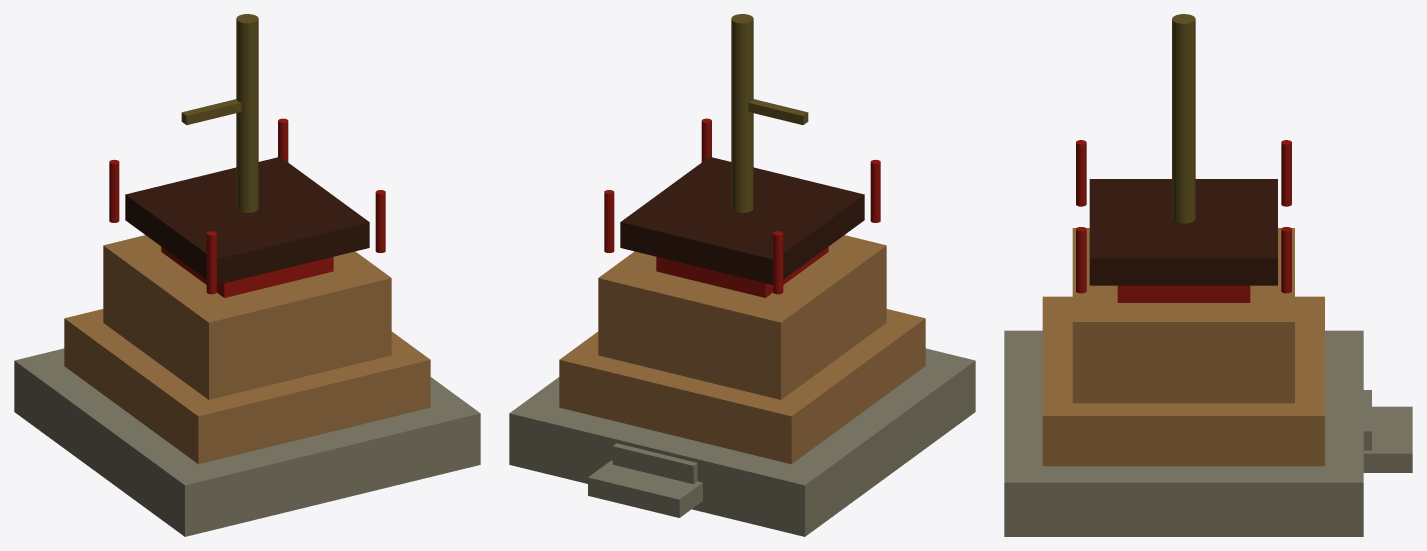
Rendered from Lingtai.fbx.
The picture shows the model from 3 angles, left to right: view 1: azimuth 30°, elevation 25°; view 2: azimuth 150°, elevation 25°; view 3: azimuth 270°, elevation 25°; orthographic projection. The views are drawn at different scales.
Parts seen in each view (by area): view 1: tier_1, tier_3_2, tier_2, deck, sighting_pole, tier_4, sighting_arm, deck_post_0_24_0_24, deck_post_0_24__0_24, deck_post__0_24_0_24; view 2: tier_1, tier_3_2, tier_2, deck, sighting_pole, south_stair_1, tier_4, south_stair_2, sighting_arm, deck_post_0_24__0_24, deck_post_0_24_0_24, deck_post__0_24__0_24; view 3: tier_1, tier_3_2, tier_2, deck, sighting_pole, south_stair_1, tier_4, deck_post_0_24__0_24, deck_post__0_24_0_24, deck_post__0_24__0_24, deck_post_0_24_0_24, south_stair_2.
Part boxes in pixels (x1,y1,x2,y2): tier_1: (14,348,480,536); tier_3_2: (103,235,391,399); tier_2: (64,309,430,464); deck: (125,157,369,284); sighting_pole: (236,14,258,212); tier_4: (161,247,333,297); sighting_arm: (181,99,241,124); deck_post_0_24_0_24: (206,231,216,294); deck_post_0_24__0_24: (109,159,119,222); deck_post__0_24_0_24: (375,190,385,252); tier_1: (509,348,975,536); tier_3_2: (598,235,886,399); tier_2: (559,309,925,464); deck: (620,157,864,284); sighting_pole: (731,14,753,212); south_stair_1: (588,460,702,517); tier_4: (656,247,827,297); south_stair_2: (612,443,697,484); sighting_arm: (748,99,808,124); deck_post_0_24__0_24: (773,231,783,294); deck_post_0_24_0_24: (870,159,880,222); deck_post__0_24__0_24: (604,190,614,252); tier_1: (1004,330,1363,536); tier_3_2: (1072,228,1294,403); tier_2: (1042,296,1324,466); deck: (1089,179,1277,285); sighting_pole: (1172,14,1195,223); south_stair_1: (1363,406,1412,472); tier_4: (1117,285,1250,302); deck_post_0_24__0_24: (1281,140,1291,206); deck_post__0_24_0_24: (1076,227,1086,293); deck_post__0_24__0_24: (1281,227,1291,293); deck_post_0_24_0_24: (1076,140,1086,206); south_stair_2: (1363,390,1371,450).
Bounding box in the file's own units: 84 × 114 × 95.5.
